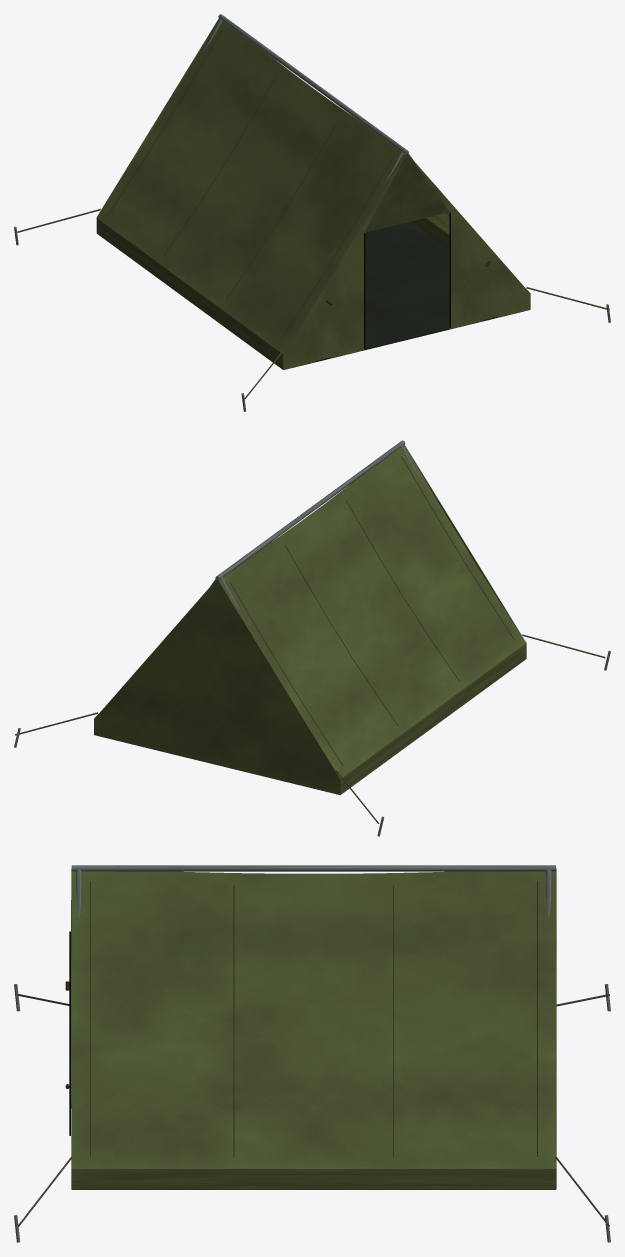
Rendered from level_camp_tent_ridge_tailored.glb.
3 renders of one model, top to bottom at view 1: azimuth 30°, elevation 25°; view 2: azimuth 150°, elevation 25°; view 3: azimuth 270°, elevation 25°, orthographic. The views are drawn at different scales.
Visible parts, largest first — view 1: level_camp_tent_ridge_tailored; view 2: level_camp_tent_ridge_tailored; view 3: level_camp_tent_ridge_tailored.
Boxes of the visible parts, x1,y1,x2,y2 form: level_camp_tent_ridge_tailored: (14, 14, 610, 411); level_camp_tent_ridge_tailored: (14, 440, 610, 836); level_camp_tent_ridge_tailored: (14, 865, 610, 1242).
Bounding box in the file's own units: 3.9 × 2.02 × 4.19.
Materials: 8 (8 with a texture image).
